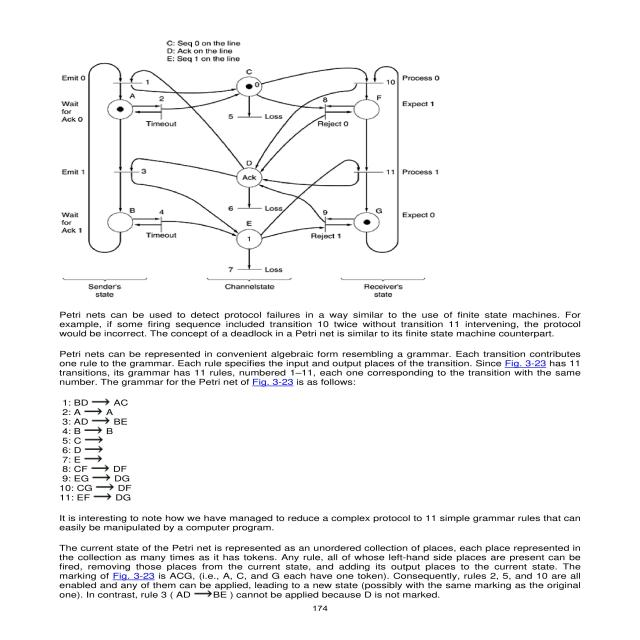diagram: (39, 32, 583, 342)
